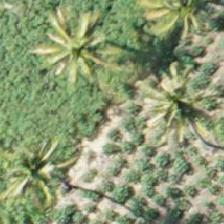coconut_tree: (23, 3, 113, 93), (129, 58, 219, 148), (0, 121, 81, 211), (135, 0, 223, 47)
